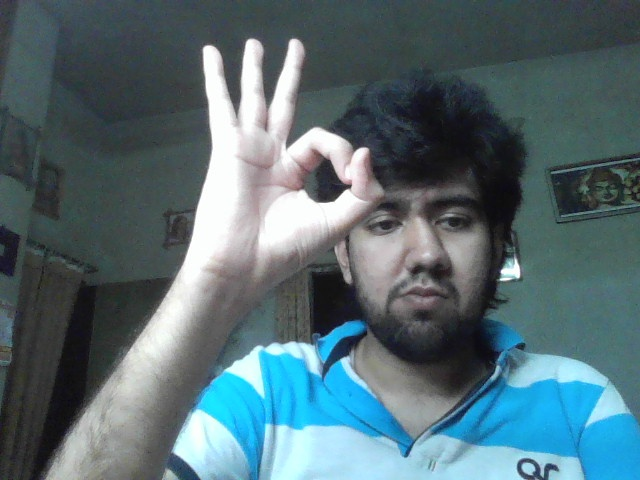Nice: (202, 38, 384, 285)
